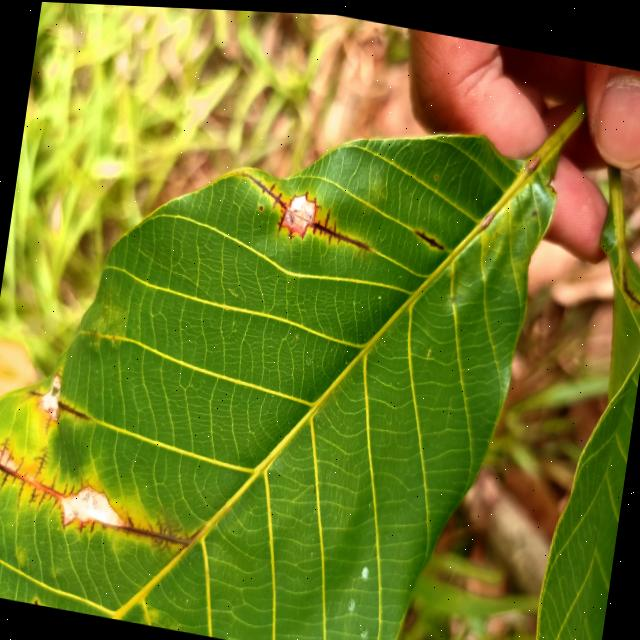Corynespora: (234, 168, 376, 254), (0, 430, 86, 519), (114, 505, 204, 557), (56, 399, 94, 421), (414, 225, 446, 246), (104, 440, 115, 455)
Leaf-Blight: (59, 482, 128, 534), (282, 190, 318, 233), (36, 370, 64, 420)
